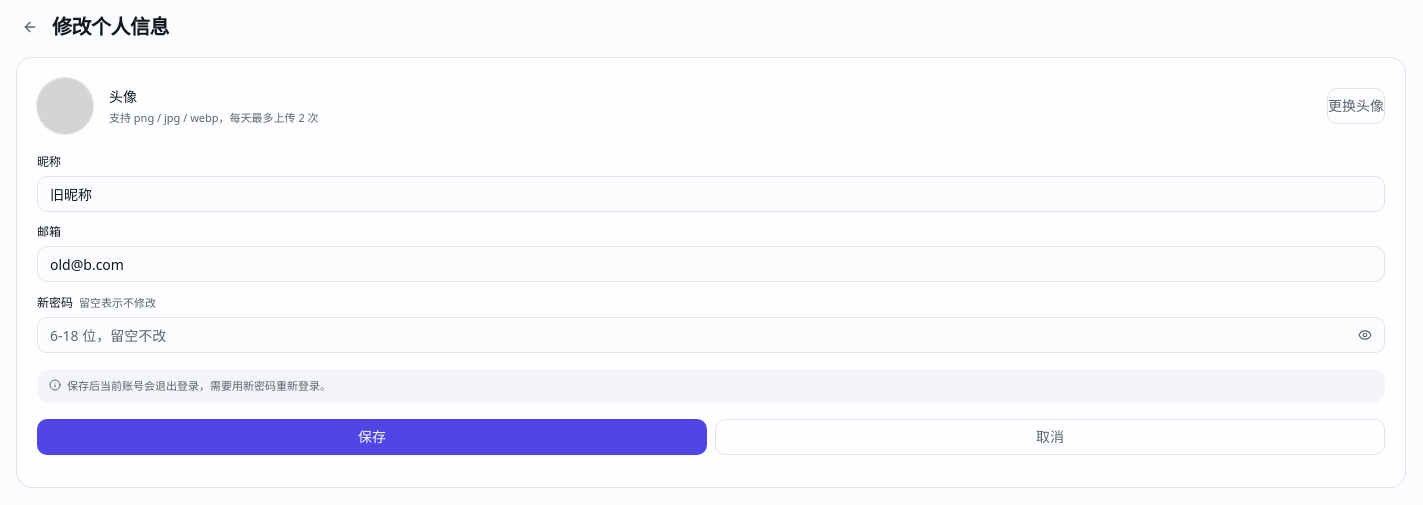
Scenario: 修改个人信息页 › 保存成功后清本地会话并提示重新登录（后端 kickout 的配套处理）
Click the button "保存": (372, 437) [37,419,707,455]
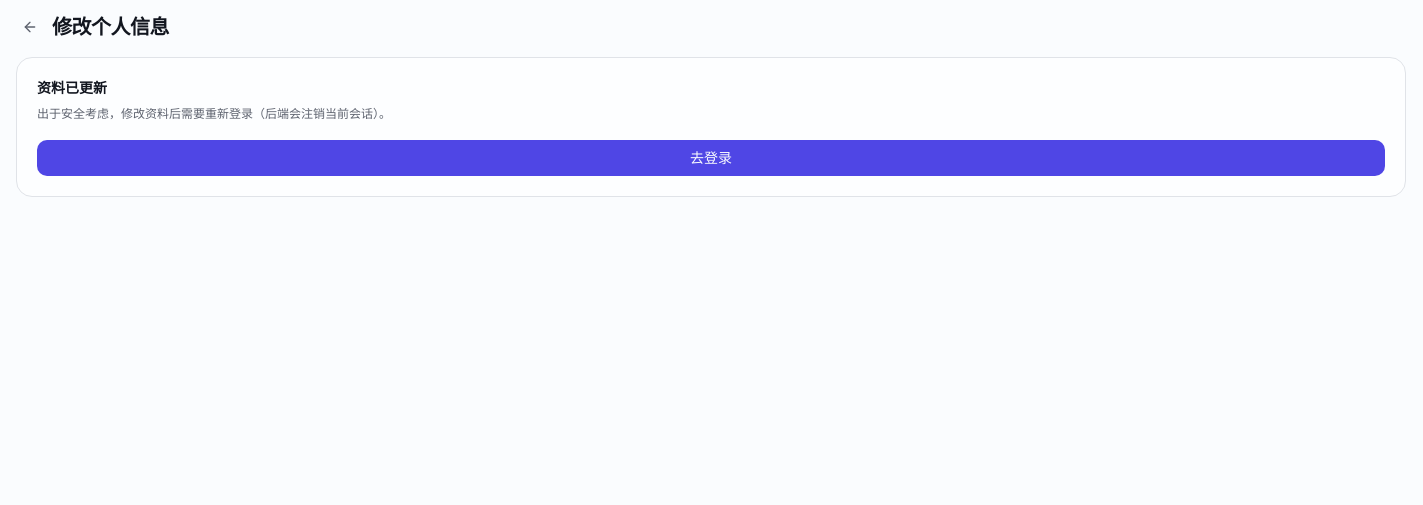
Expected: the text "资料已更新" is shown, [37,78,107,97]
